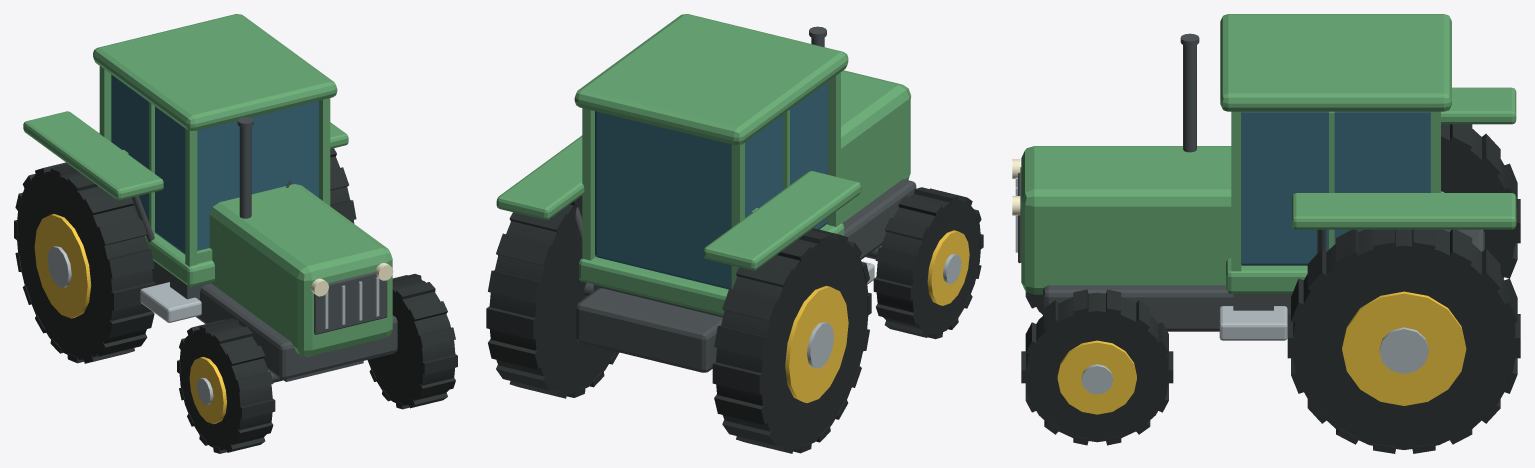
The model's file is tractor_cab.glb.
3 renders of one model, left to right at view 1: azimuth 30°, elevation 25°; view 2: azimuth 150°, elevation 25°; view 3: azimuth 270°, elevation 25°, orthographic. The views are drawn at different scales.
Visible parts, largest first — view 1: Cab tractor green engine hood, Cab tractor green roof, Cab tractor opaque glazed cabin, Cab tractor wheel tire.002, Cab tractor rear wheel guard, Cab tractor wheel tire, Cab tractor chassis, Cab tractor wheel tire.001, Cab tractor wheel rim.002, Cab tractor dark front grille, Cab tractor green corner pillar, Cab tractor cabin floor (+20 smaller); view 2: Cab tractor opaque glazed cabin, Cab tractor green roof, Cab tractor wheel tire.002, Cab tractor chassis, Cab tractor wheel tire.003, Cab tractor green engine hood, Cab tractor rear wheel guard, Cab tractor wheel tire, Cab tractor wheel rim.002, Cab tractor cabin floor, Cab tractor rear wheel guard.001, Cab tractor wheel rim (+22 smaller); view 3: Cab tractor green engine hood, Cab tractor wheel tire.003, Cab tractor green roof, Cab tractor opaque glazed cabin, Cab tractor wheel tire.001, Cab tractor wheel rim.003, Cab tractor rear wheel guard.001, Cab tractor chassis, Cab tractor wheel rim.001, Cab tractor wheel tire.002, Cab tractor rear wheel guard, Cab tractor entry step.001 (+16 smaller).
Boxes of the visible parts, x1=… form: Cab tractor green engine hood: x1=209, y1=184, x2=392, y2=356; Cab tractor green roof: x1=93, y1=14, x2=337, y2=131; Cab tractor opaque glazed cabin: x1=111, y1=74, x2=318, y2=254; Cab tractor wheel tire.002: x1=17, y1=171, x2=152, y2=359; Cab tractor rear wheel guard: x1=23, y1=111, x2=163, y2=200; Cab tractor wheel tire: x1=179, y1=324, x2=272, y2=450; Cab tractor chassis: x1=152, y1=267, x2=397, y2=379; Cab tractor wheel tire.001: x1=367, y1=280, x2=455, y2=405; Cab tractor wheel rim.002: x1=34, y1=214, x2=91, y2=318; Cab tractor dark front grille: x1=314, y1=272, x2=387, y2=334; Cab tractor green corner pillar: x1=185, y1=129, x2=197, y2=266; Cab tractor cabin floor: x1=145, y1=233, x2=214, y2=286; Cab tractor opaque glazed cabin: x1=595, y1=82, x2=827, y2=289; Cab tractor green roof: x1=574, y1=14, x2=848, y2=145; Cab tractor wheel tire.002: x1=716, y1=237, x2=868, y2=449; Cab tractor chassis: x1=576, y1=179, x2=916, y2=372; Cab tractor wheel tire.003: x1=489, y1=200, x2=614, y2=394; Cab tractor green engine hood: x1=841, y1=70, x2=910, y2=223; Cab tractor rear wheel guard: x1=703, y1=171, x2=861, y2=270; Cab tractor wheel tire: x1=876, y1=194, x2=980, y2=335; Cab tractor wheel rim.002: x1=785, y1=286, x2=848, y2=403; Cab tractor cabin floor: x1=579, y1=223, x2=844, y2=315; Cab tractor rear wheel guard.001: x1=496, y1=135, x2=584, y2=219; Cab tractor wheel rim: x1=927, y1=230, x2=969, y2=305; Cab tractor green engine hood: x1=1021, y1=146, x2=1231, y2=294; Cab tractor wheel tire.003: x1=1293, y1=229, x2=1515, y2=449; Cab tractor green roof: x1=1220, y1=14, x2=1451, y2=111; Cab tractor opaque glazed cabin: x1=1241, y1=111, x2=1430, y2=265; Cab tractor wheel tire.001: x1=1026, y1=292, x2=1168, y2=442; Cab tractor wheel rim.003: x1=1342, y1=291, x2=1466, y2=405; Cab tractor rear wheel guard.001: x1=1292, y1=193, x2=1516, y2=229; Cab tractor chassis: x1=1043, y1=229, x2=1484, y2=331; Cab tractor wheel rim.001: x1=1057, y1=340, x2=1136, y2=414; Cab tractor wheel tire.002: x1=1441, y1=124, x2=1515, y2=278; Cab tractor rear wheel guard: x1=1441, y1=87, x2=1516, y2=124; Cab tractor entry step.001: x1=1219, y1=306, x2=1287, y2=340.
Bounding box in the file's own units: 2.38 × 2.52 × 3.51.
